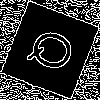Q: (25, 25, 86, 79)
